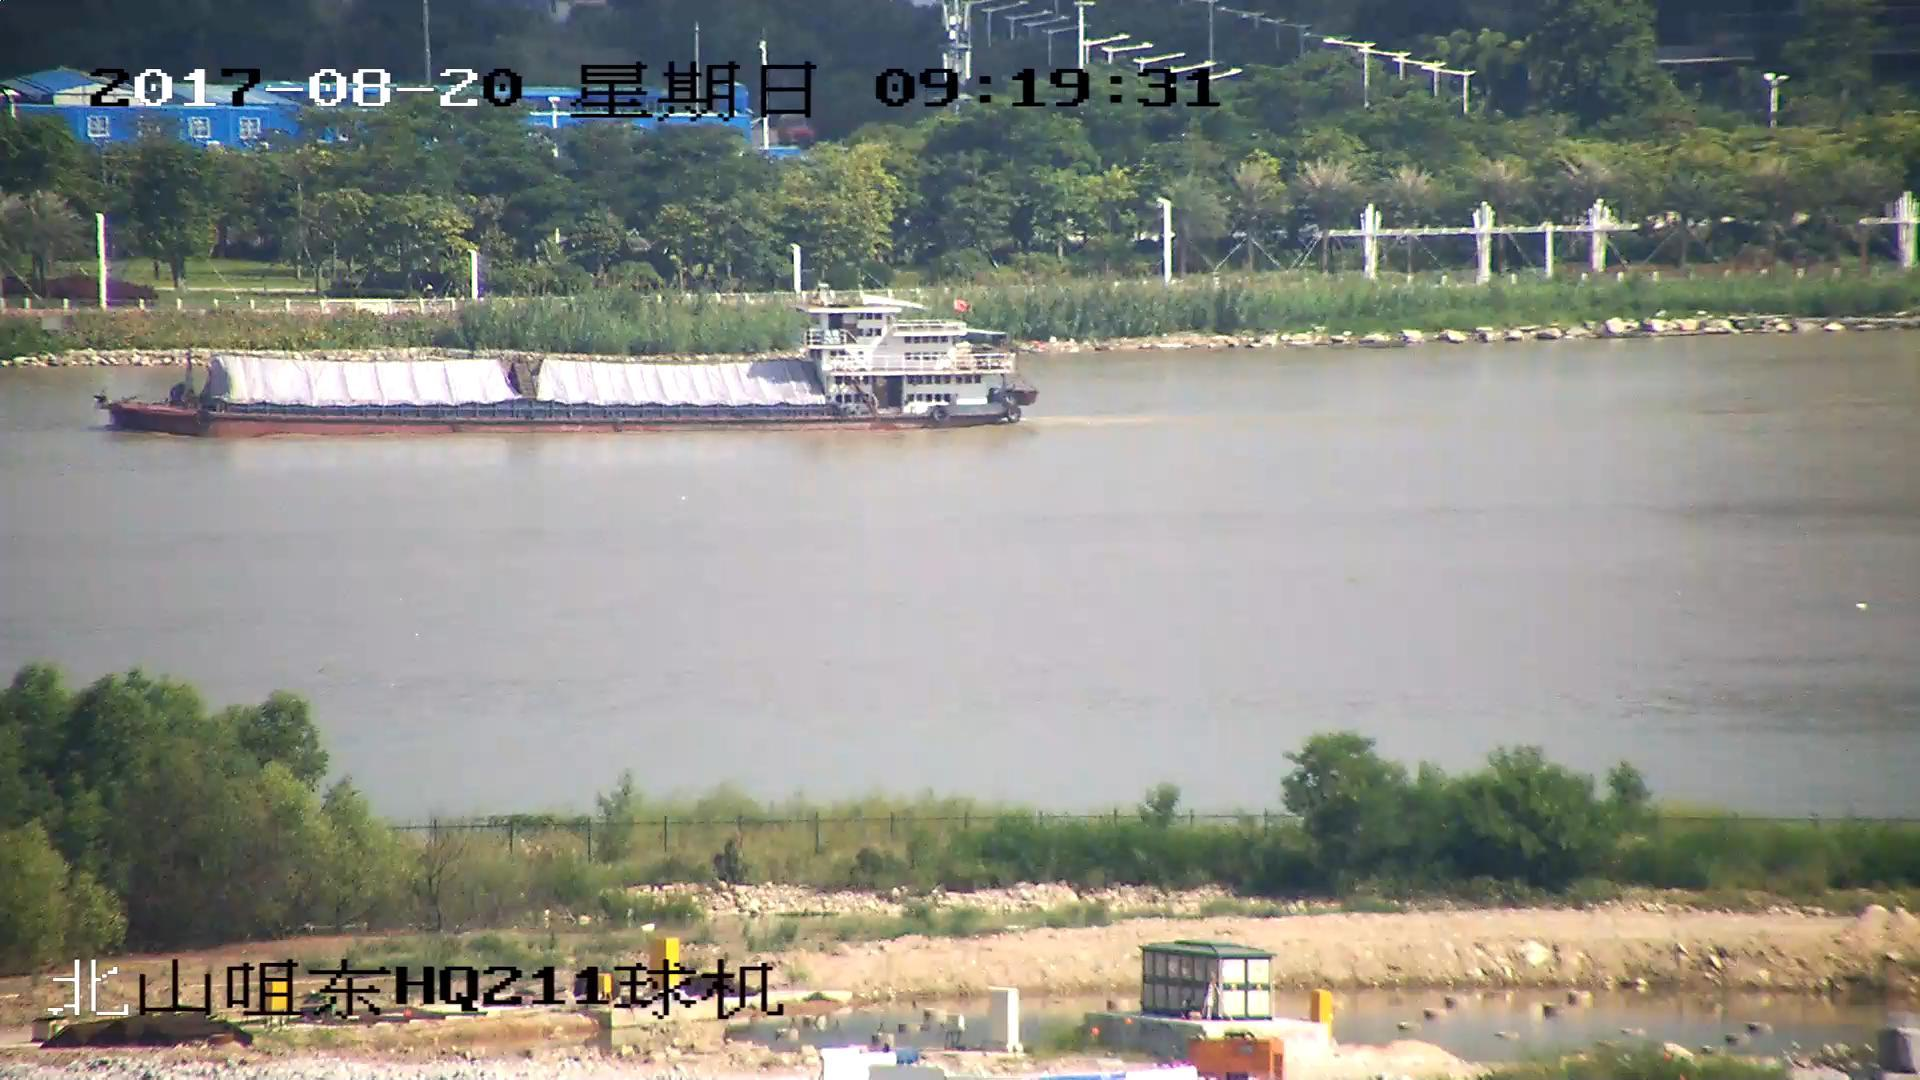Ship: (105, 293, 1034, 435)
